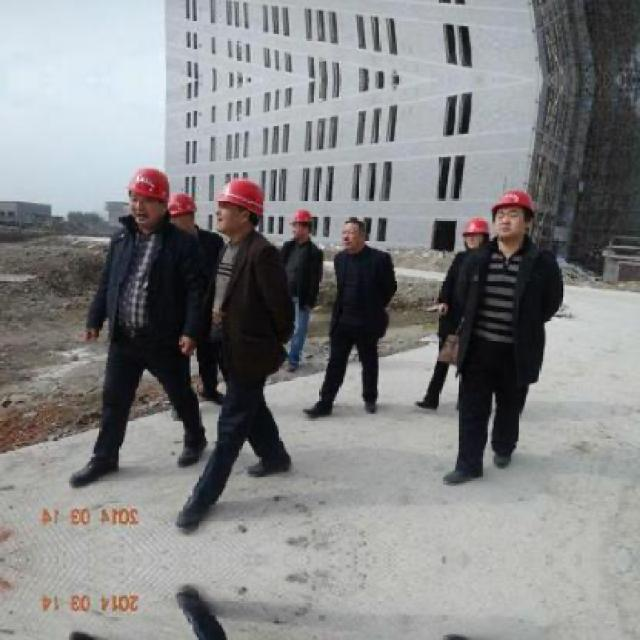con casco: (458, 158, 582, 241), (83, 145, 195, 228), (192, 168, 282, 262), (440, 191, 499, 260), (284, 189, 328, 254), (338, 200, 386, 244)
